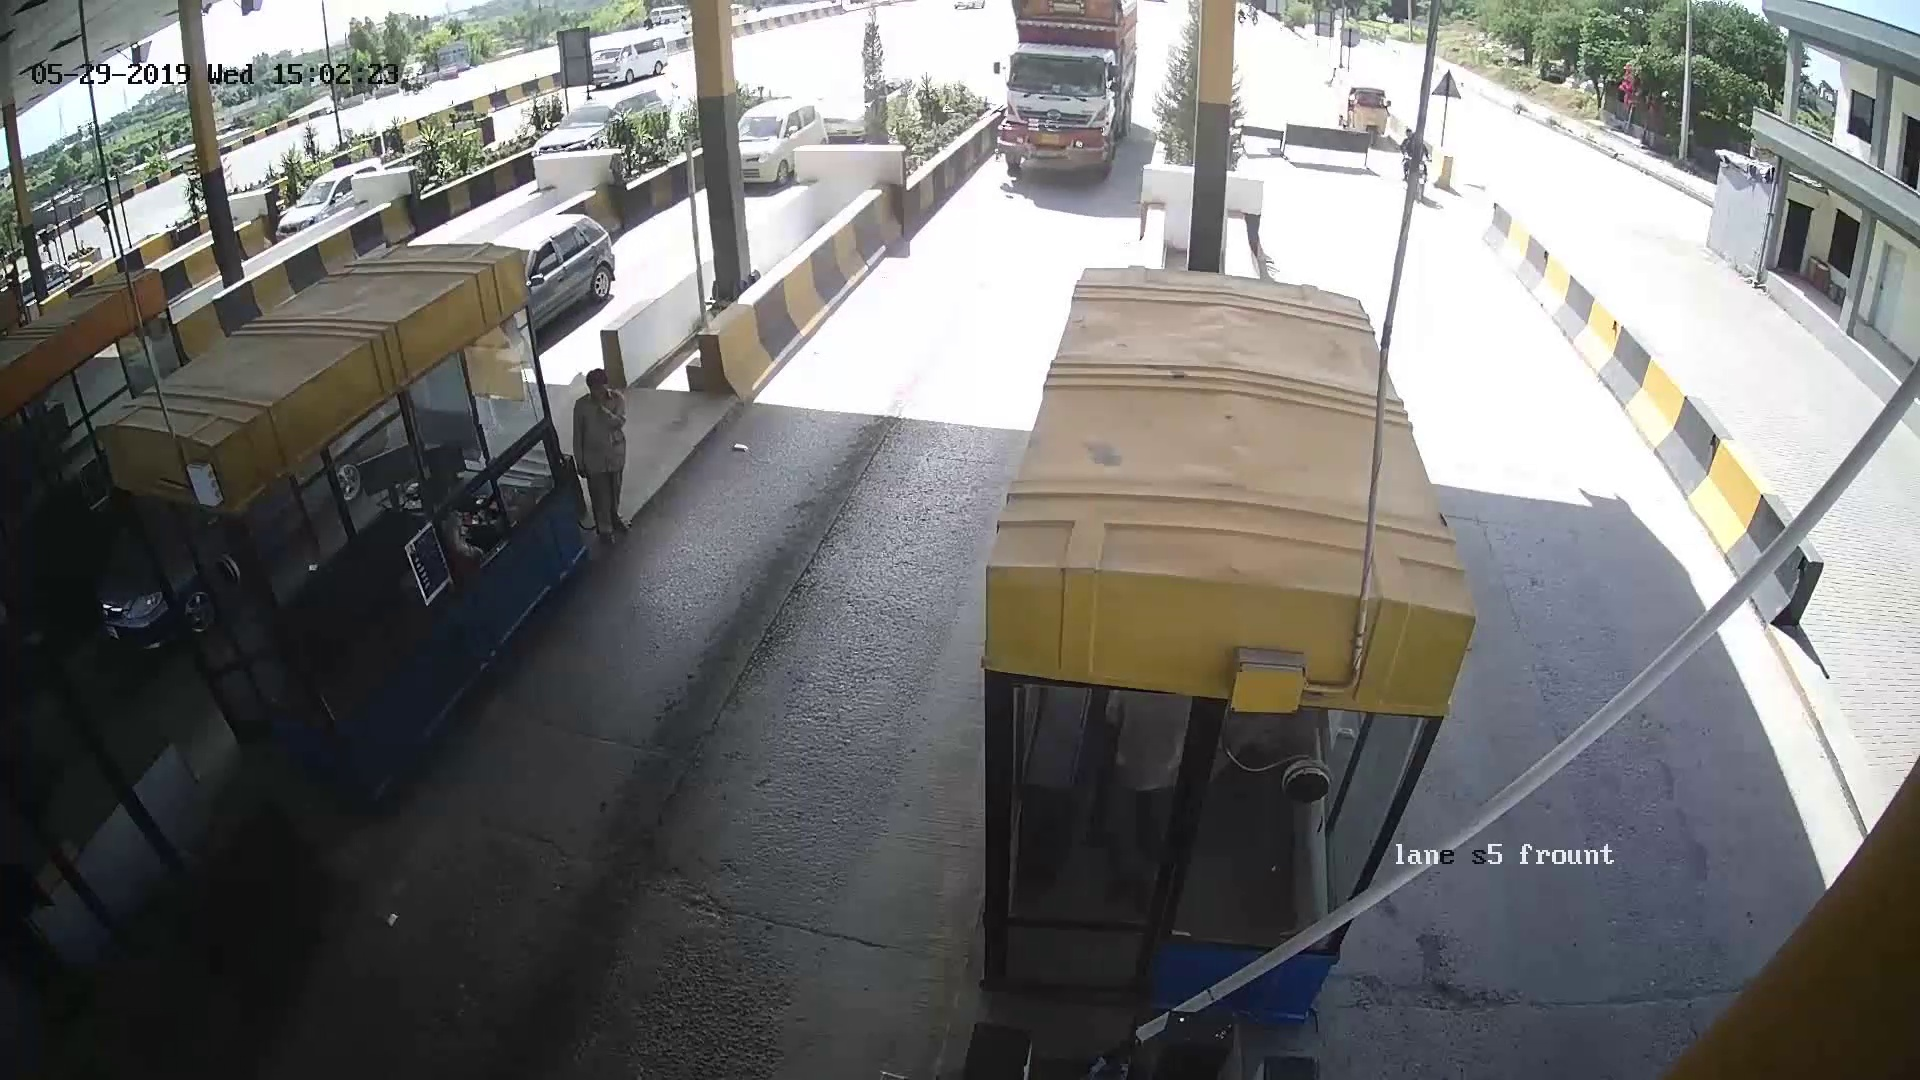truck: (996, 9, 1135, 179)
